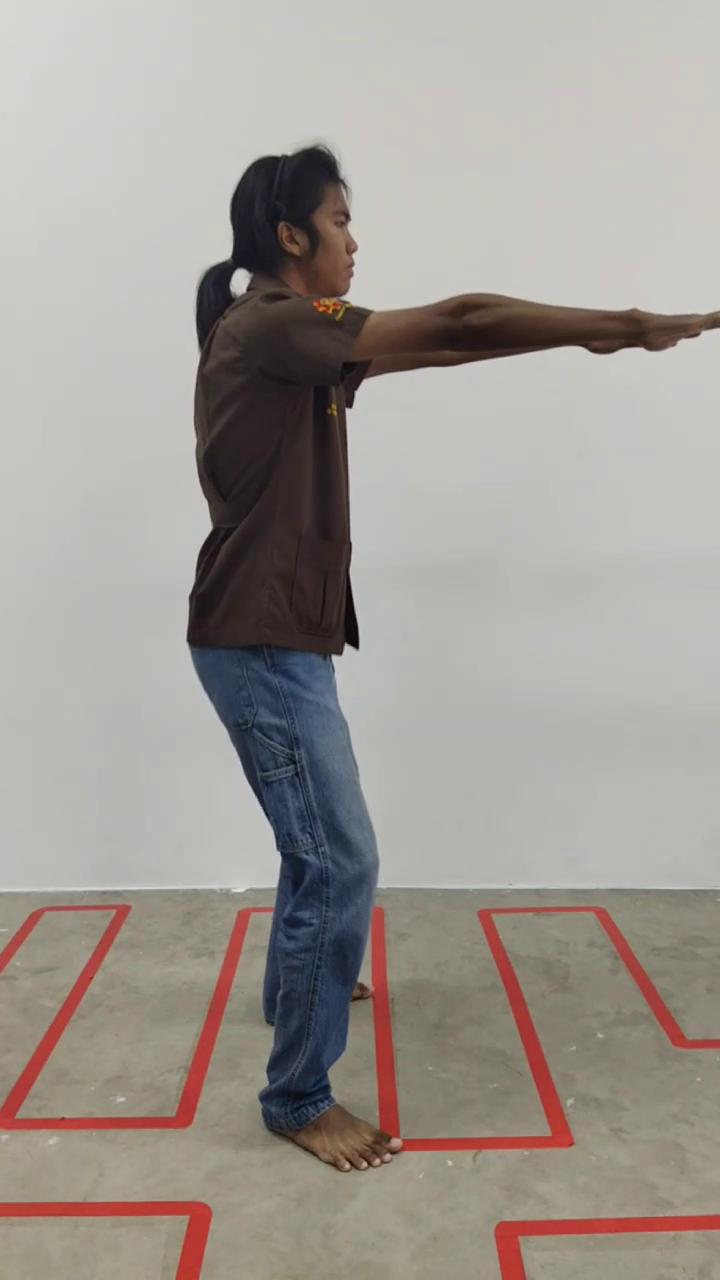squat up: (186, 142, 704, 1178)
